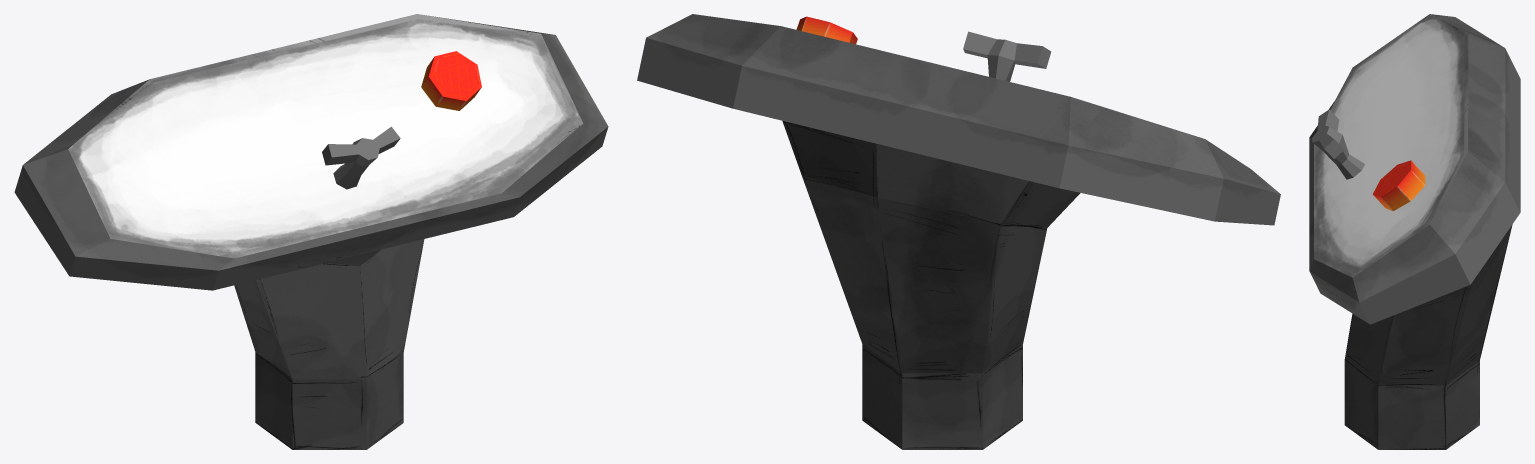
Rendered from board-niveau-0.fbx.
3 renders of one model, left to right at view 1: azimuth 30°, elevation 25°; view 2: azimuth 150°, elevation 25°; view 3: azimuth 270°, elevation 25°, orthographic. The views are drawn at different scales.
Visible parts, largest first — view 1: board, Cylinder.002, Cylinder.003; view 2: board, Cylinder.003, Cylinder.002; view 3: board, Cylinder.002, Cylinder.003.
Boxes of the visible parts, x1,y1,x2,y2 form: board: (14, 14, 608, 449); Cylinder.002: (421, 51, 481, 110); Cylinder.003: (322, 126, 400, 189); board: (637, 14, 1280, 449); Cylinder.003: (963, 31, 1051, 81); Cylinder.002: (796, 16, 857, 44); board: (1309, 14, 1520, 449); Cylinder.002: (1372, 160, 1425, 211); Cylinder.003: (1312, 109, 1364, 179).
Size of the model in its own units: 830 by 532 by 312.
